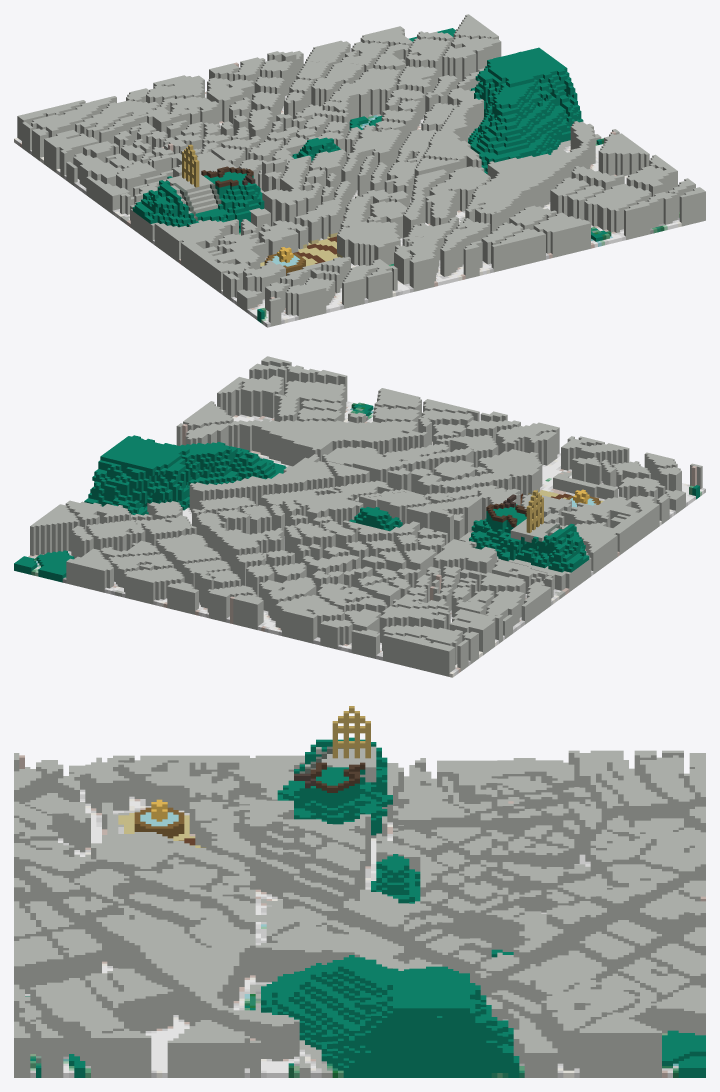
The model's file is 210519newbigMacaumap-14.obj.
3 renders of one model, top to bottom at view 1: azimuth 30°, elevation 25°; view 2: azimuth 150°, elevation 25°; view 3: azimuth 270°, elevation 25°, orthographic. The views are drawn at different scales.
Size of the model in its own units: 12.6 by 2.3 by 12.6.
1 material, 1 textured.
